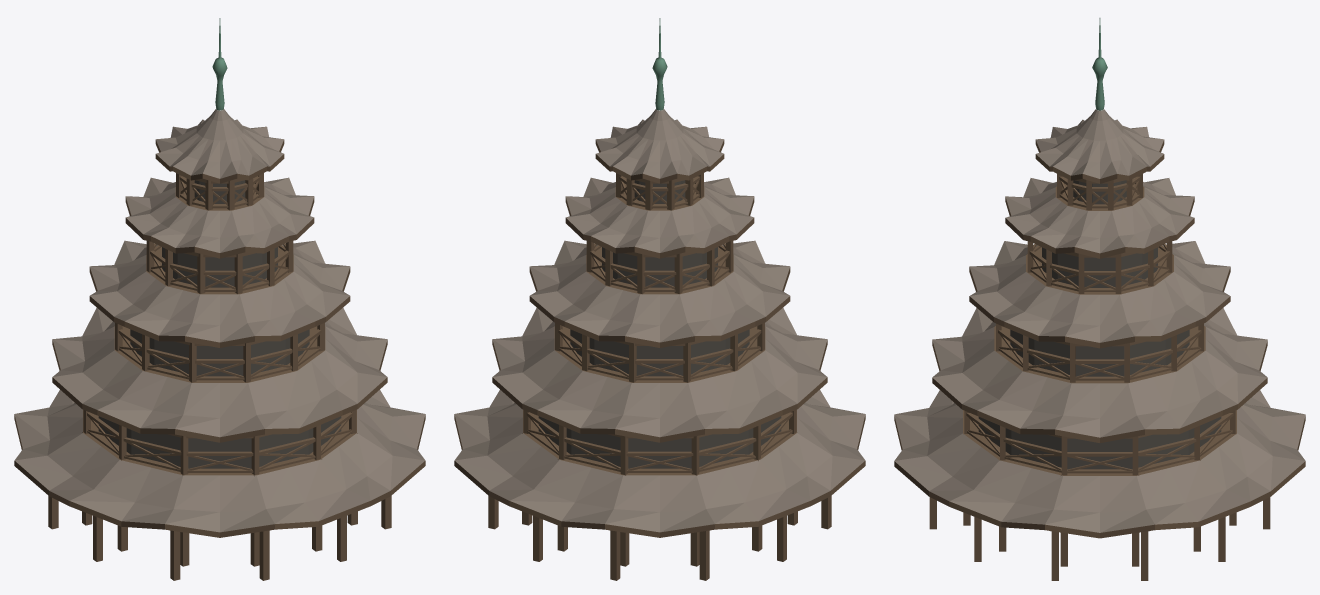
Rendered from munich-chinesischer-turm.glb.
3 renders of one model, left to right at view 1: azimuth 30°, elevation 25°; view 2: azimuth 150°, elevation 25°; view 3: azimuth 270°, elevation 25°, orthographic.
Visible parts, largest first — view 1: Chinesischer Turm; view 2: Chinesischer Turm; view 3: Chinesischer Turm.
Part boxes in pixels (bbox=[...]): Chinesischer Turm: bbox=[14, 18, 425, 580]; Chinesischer Turm: bbox=[454, 18, 865, 580]; Chinesischer Turm: bbox=[894, 18, 1305, 580].
Bounding box in the file's own units: 18.84 × 25 × 18.84.
